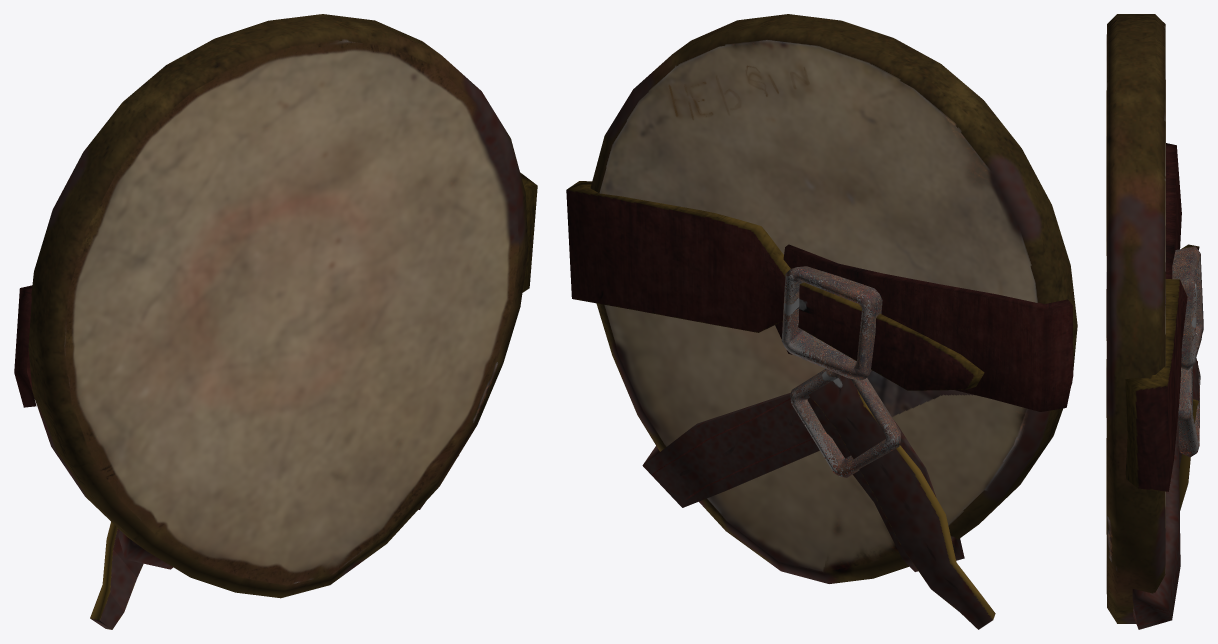
File: 01 Hand paddle.fbx
The picture shows the model from 3 angles, left to right: view 1: azimuth 30°, elevation 25°; view 2: azimuth 150°, elevation 25°; view 3: azimuth 270°, elevation 25°; orthographic projection. The views are drawn at different scales.
Visible parts, largest first — view 1: pCylinder5, polySurface5, pPlane2, polySurface2, polySurface4; view 2: pCylinder5, polySurface2, pPlane2, polySurface5, polySurface3, pTorus1, pTorus2, polySurface4; view 3: pCylinder5, polySurface2, polySurface3, pTorus1, pPlane2, pTorus2, polySurface5.
Part boxes in pixels (left/top/right/bottom): pCylinder5: left=28, top=14, right=528, bottom=598; polySurface5: left=90, top=522, right=143, bottom=629; pPlane2: left=14, top=285, right=36, bottom=407; polySurface2: left=520, top=172, right=537, bottom=292; polySurface4: left=118, top=530, right=172, bottom=569; pCylinder5: left=590, top=14, right=1077, bottom=583; polySurface2: left=566, top=181, right=984, bottom=390; pPlane2: left=775, top=244, right=1073, bottom=411; polySurface5: left=808, top=376, right=995, bottom=629; polySurface3: left=642, top=392, right=819, bottom=507; pTorus1: left=781, top=266, right=882, bottom=380; pTorus2: left=790, top=369, right=901, bottom=477; polySurface4: left=807, top=397, right=964, bottom=571; pCylinder5: left=1106, top=14, right=1165, bottom=623; polySurface2: left=1125, top=244, right=1199, bottom=491; polySurface3: left=1132, top=415, right=1180, bottom=629; pTorus1: left=1172, top=246, right=1203, bottom=370; pPlane2: left=1165, top=143, right=1181, bottom=302; pTorus2: left=1178, top=358, right=1200, bottom=457; polySurface5: left=1179, top=359, right=1199, bottom=511.
Bounding box in the file's own units: 23.92 × 25.3 × 3.94.
Materials: 1 (1 with a texture image).
